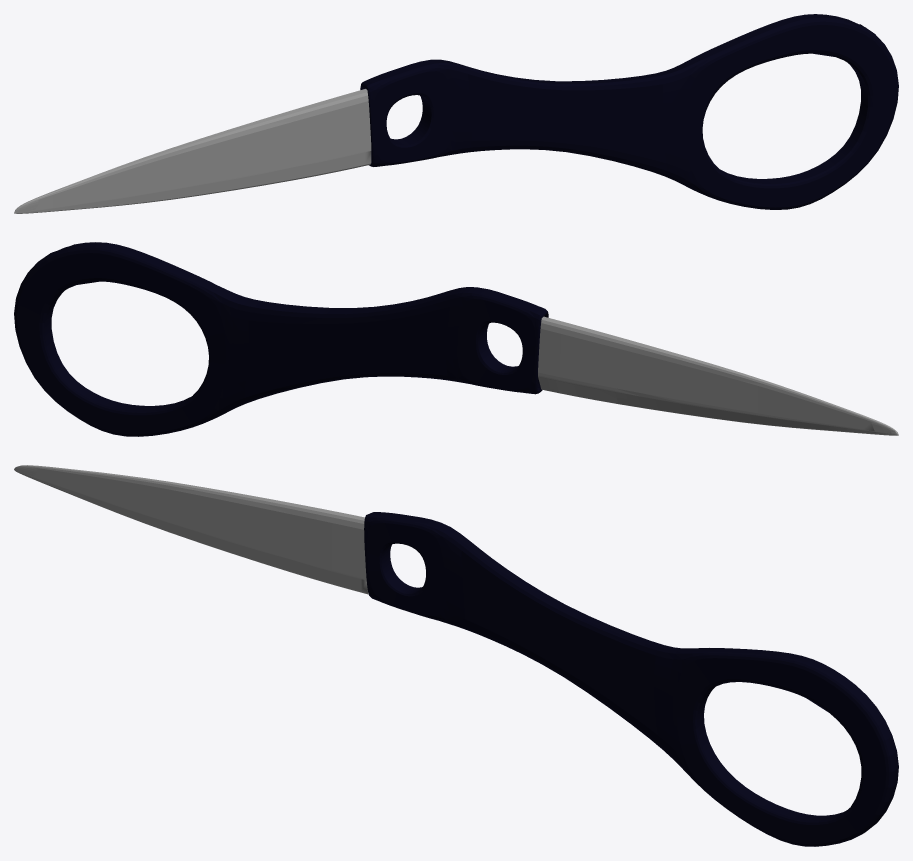
Rendered from scissors_L.FBX.
The picture shows the model from 3 angles, top to bottom: view 1: azimuth 30°, elevation 25°; view 2: azimuth 150°, elevation 25°; view 3: azimuth 330°, elevation 25°; orthographic projection.
Parts seen in each view (by area): view 1: DownH, DownC; view 2: DownH, DownC; view 3: DownH, DownC.
Part boxes in pixels (bbox=[...]): DownH: bbox=[360, 14, 898, 209]; DownC: bbox=[14, 89, 371, 213]; DownH: bbox=[14, 242, 548, 436]; DownC: bbox=[538, 316, 898, 435]; DownH: bbox=[364, 512, 898, 846]; DownC: bbox=[14, 465, 368, 594].
Size of the model in its own units: 14.8 by 3.72 by 0.3036.
